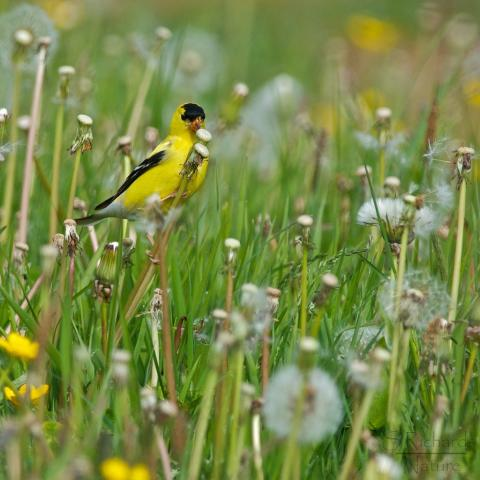bird: (67, 100, 212, 244)
